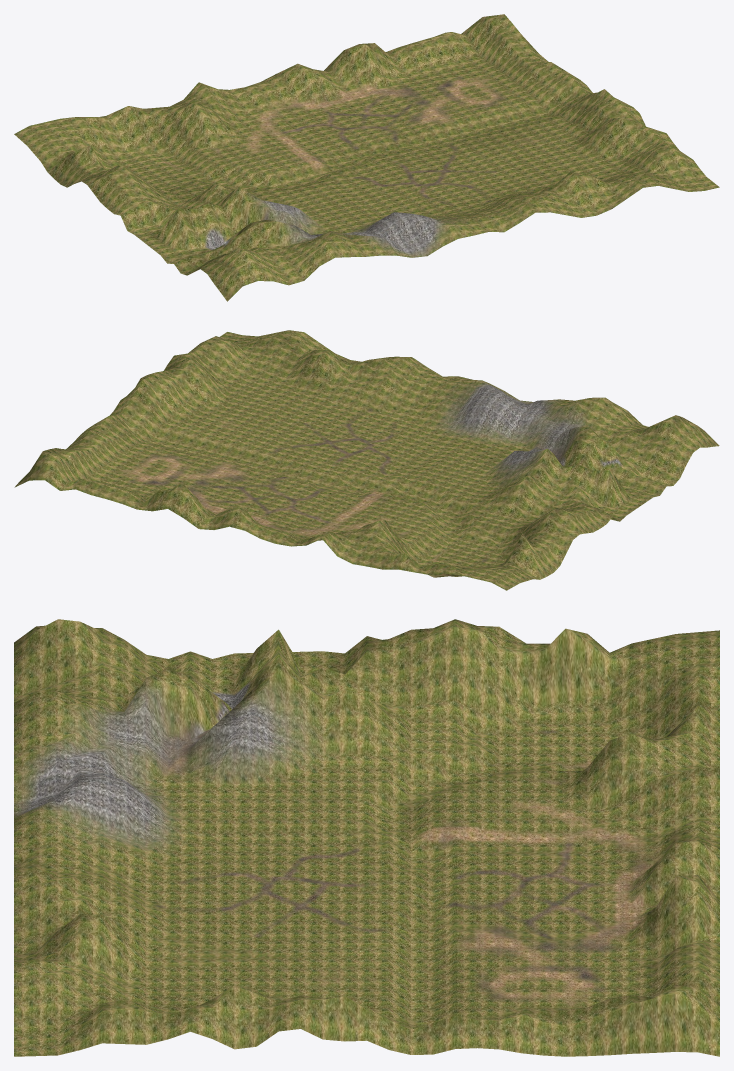
3 renders of one model, top to bottom at view 1: azimuth 30°, elevation 25°; view 2: azimuth 150°, elevation 25°; view 3: azimuth 270°, elevation 25°, orthographic. The views are drawn at different scales.
Visible parts, largest first — view 1: Mesh; view 2: Mesh; view 3: Mesh.
Part boxes in pixels (x1,y1,x2,y2): Mesh: (14,14,719,301); Mesh: (14,330,719,590); Mesh: (14,619,719,1056).
Size of the model in its own units: 200 by 19.36 by 150.
Materials: 1 (1 with a texture image).
